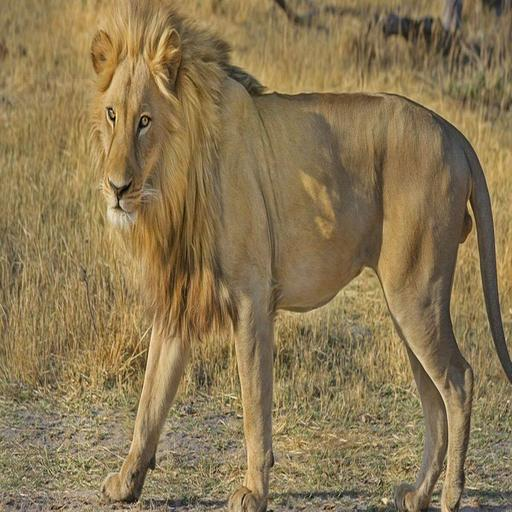Lion: (85, 0, 512, 512)
